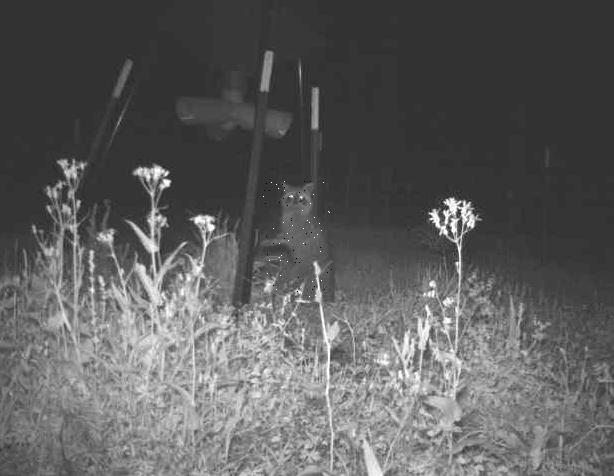Raccoon: (263, 181, 332, 300)
